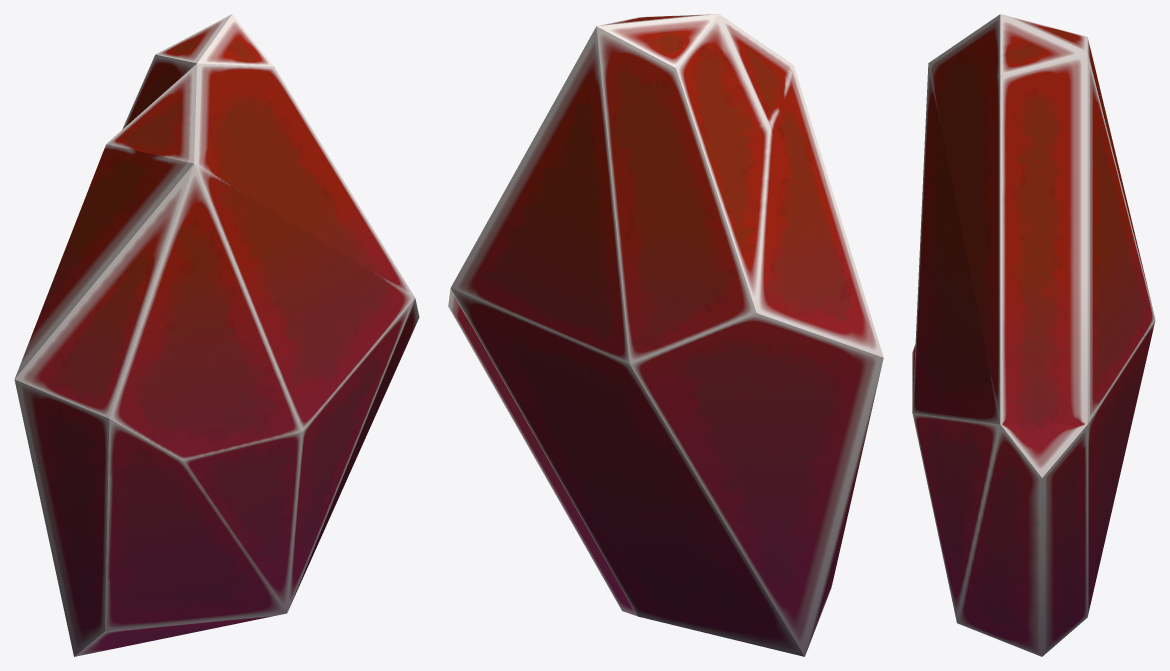
Rendered from Fire Crystal.fbx.
3 views of the same model, side by side, from view 1: azimuth 30°, elevation 25°; view 2: azimuth 150°, elevation 25°; view 3: azimuth 270°, elevation 25° (orthographic). The views are drawn at different scales.
Visible parts, largest first — view 1: Fire_Crystal; view 2: Fire_Crystal; view 3: Fire_Crystal.
Part boxes in pixels (x1,y1,x2,y2): Fire_Crystal: (14, 14, 419, 656); Fire_Crystal: (448, 14, 883, 656); Fire_Crystal: (912, 14, 1155, 656).
Bounding box in the file's own units: 134 × 181 × 65.71.
Materials: 1 (1 with a texture image).
